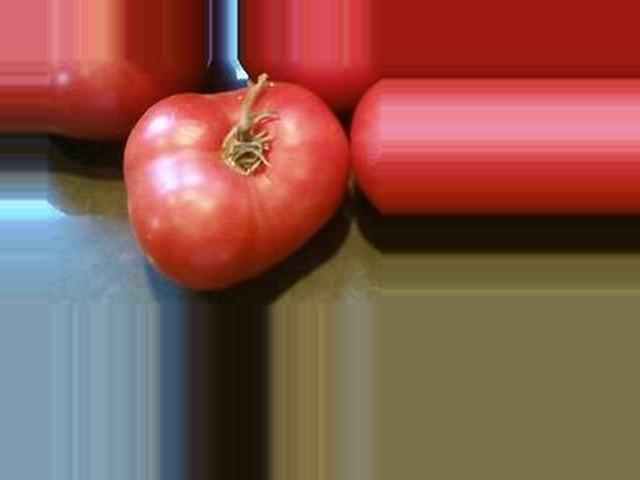tomato: (123, 82, 348, 289)
